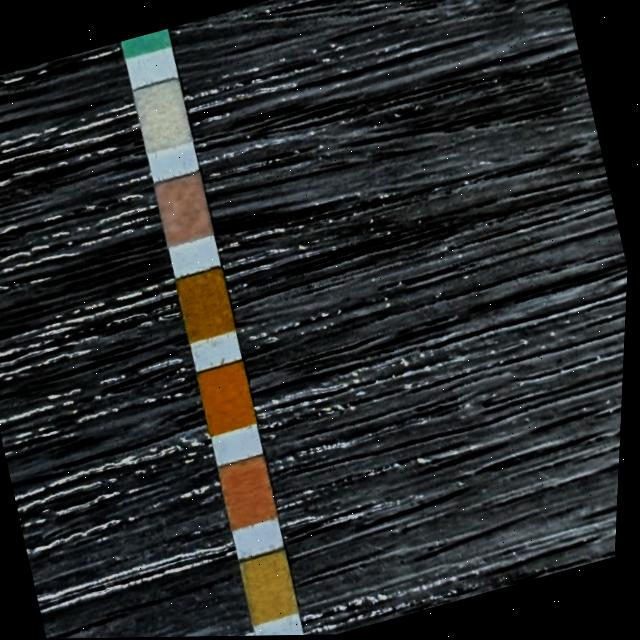Bilirubin: (132, 78, 194, 151)
Blood: (199, 361, 261, 434)
Glucose: (121, 27, 172, 59)
Ketone: (155, 174, 216, 244)
Protein: (242, 551, 305, 625)
SpGravity: (177, 268, 239, 340)
pH: (221, 455, 283, 527)
